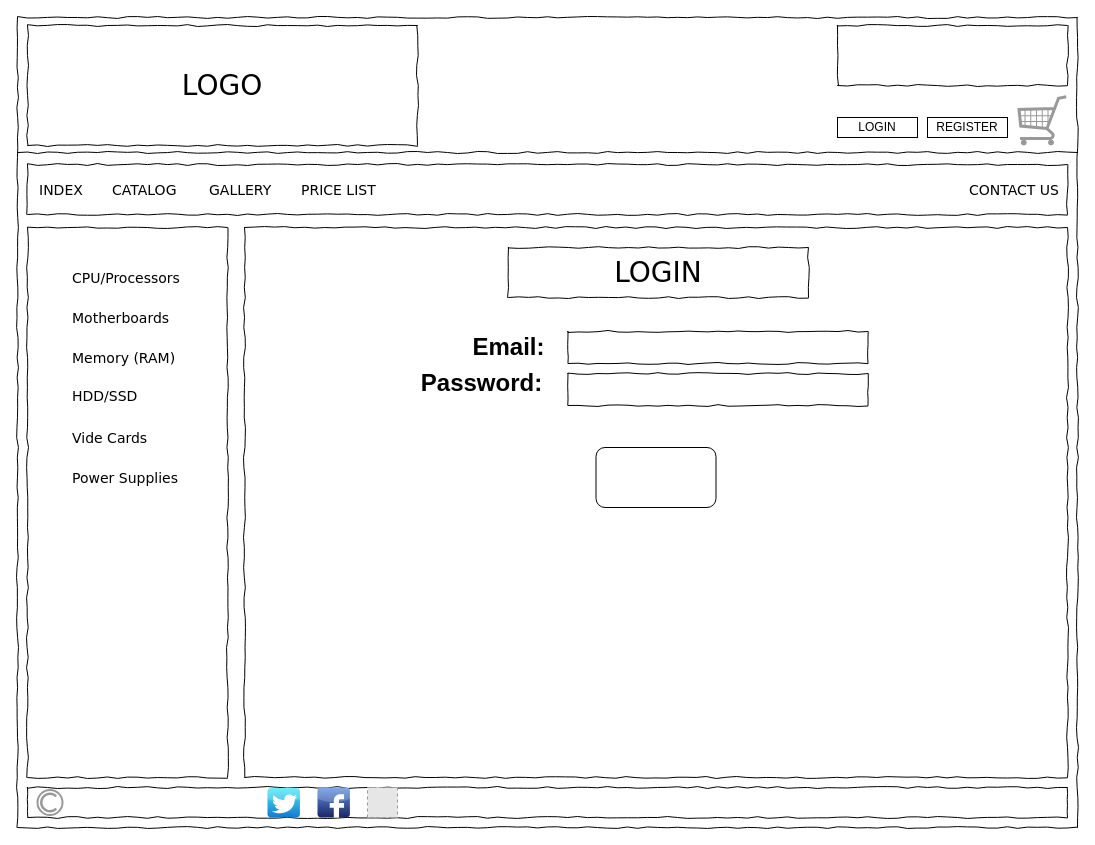
The diagram is 1095 pixels wide and 845 high, and some of its shapes have lost their labels. Grey dashed boxes stand in for pictures. The centre of each missing label's shape, as x and y in pixels:
Contact: the point at 952,55
SUBMIT: the point at 655,477
